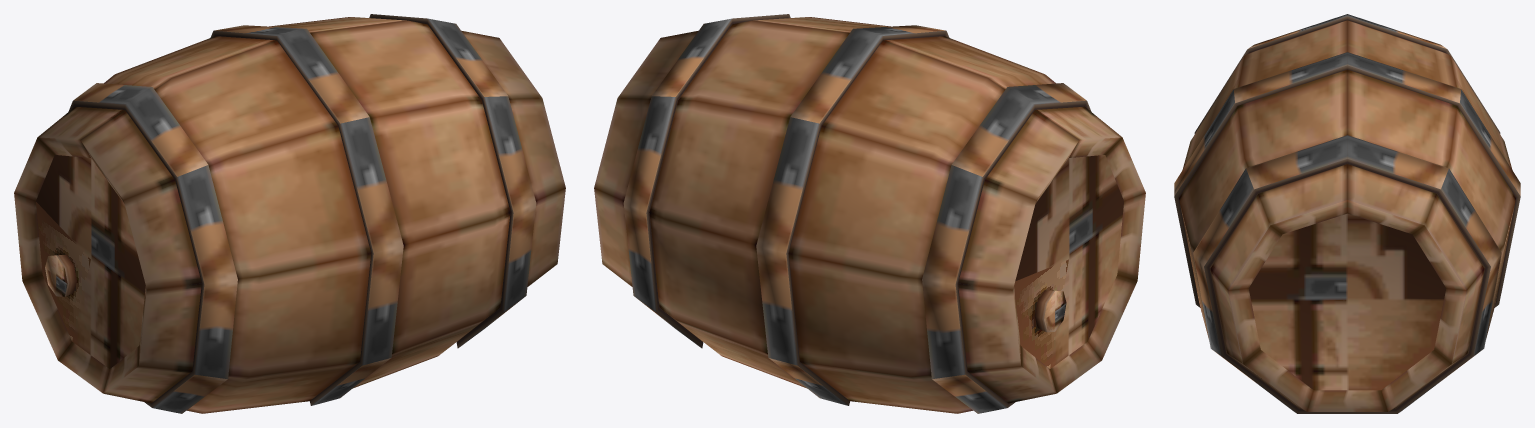
File: int_pir_barrel02.dae
3 views of the same model, side by side, from view 1: azimuth 30°, elevation 25°; view 2: azimuth 150°, elevation 25°; view 3: azimuth 270°, elevation 25° (orthographic). The views are drawn at different scales.
Parts seen in each view (by area): view 1: int_pir_barrel02; view 2: int_pir_barrel02; view 3: int_pir_barrel02.
Boxes of the visible parts, <box> form: int_pir_barrel02: <box>14,14,565,413</box>; int_pir_barrel02: <box>594,14,1145,413</box>; int_pir_barrel02: <box>1174,14,1520,413</box>.
Size of the model in its own units: 32 by 25.2 by 25.6.
Materials: 2 (2 with a texture image).
